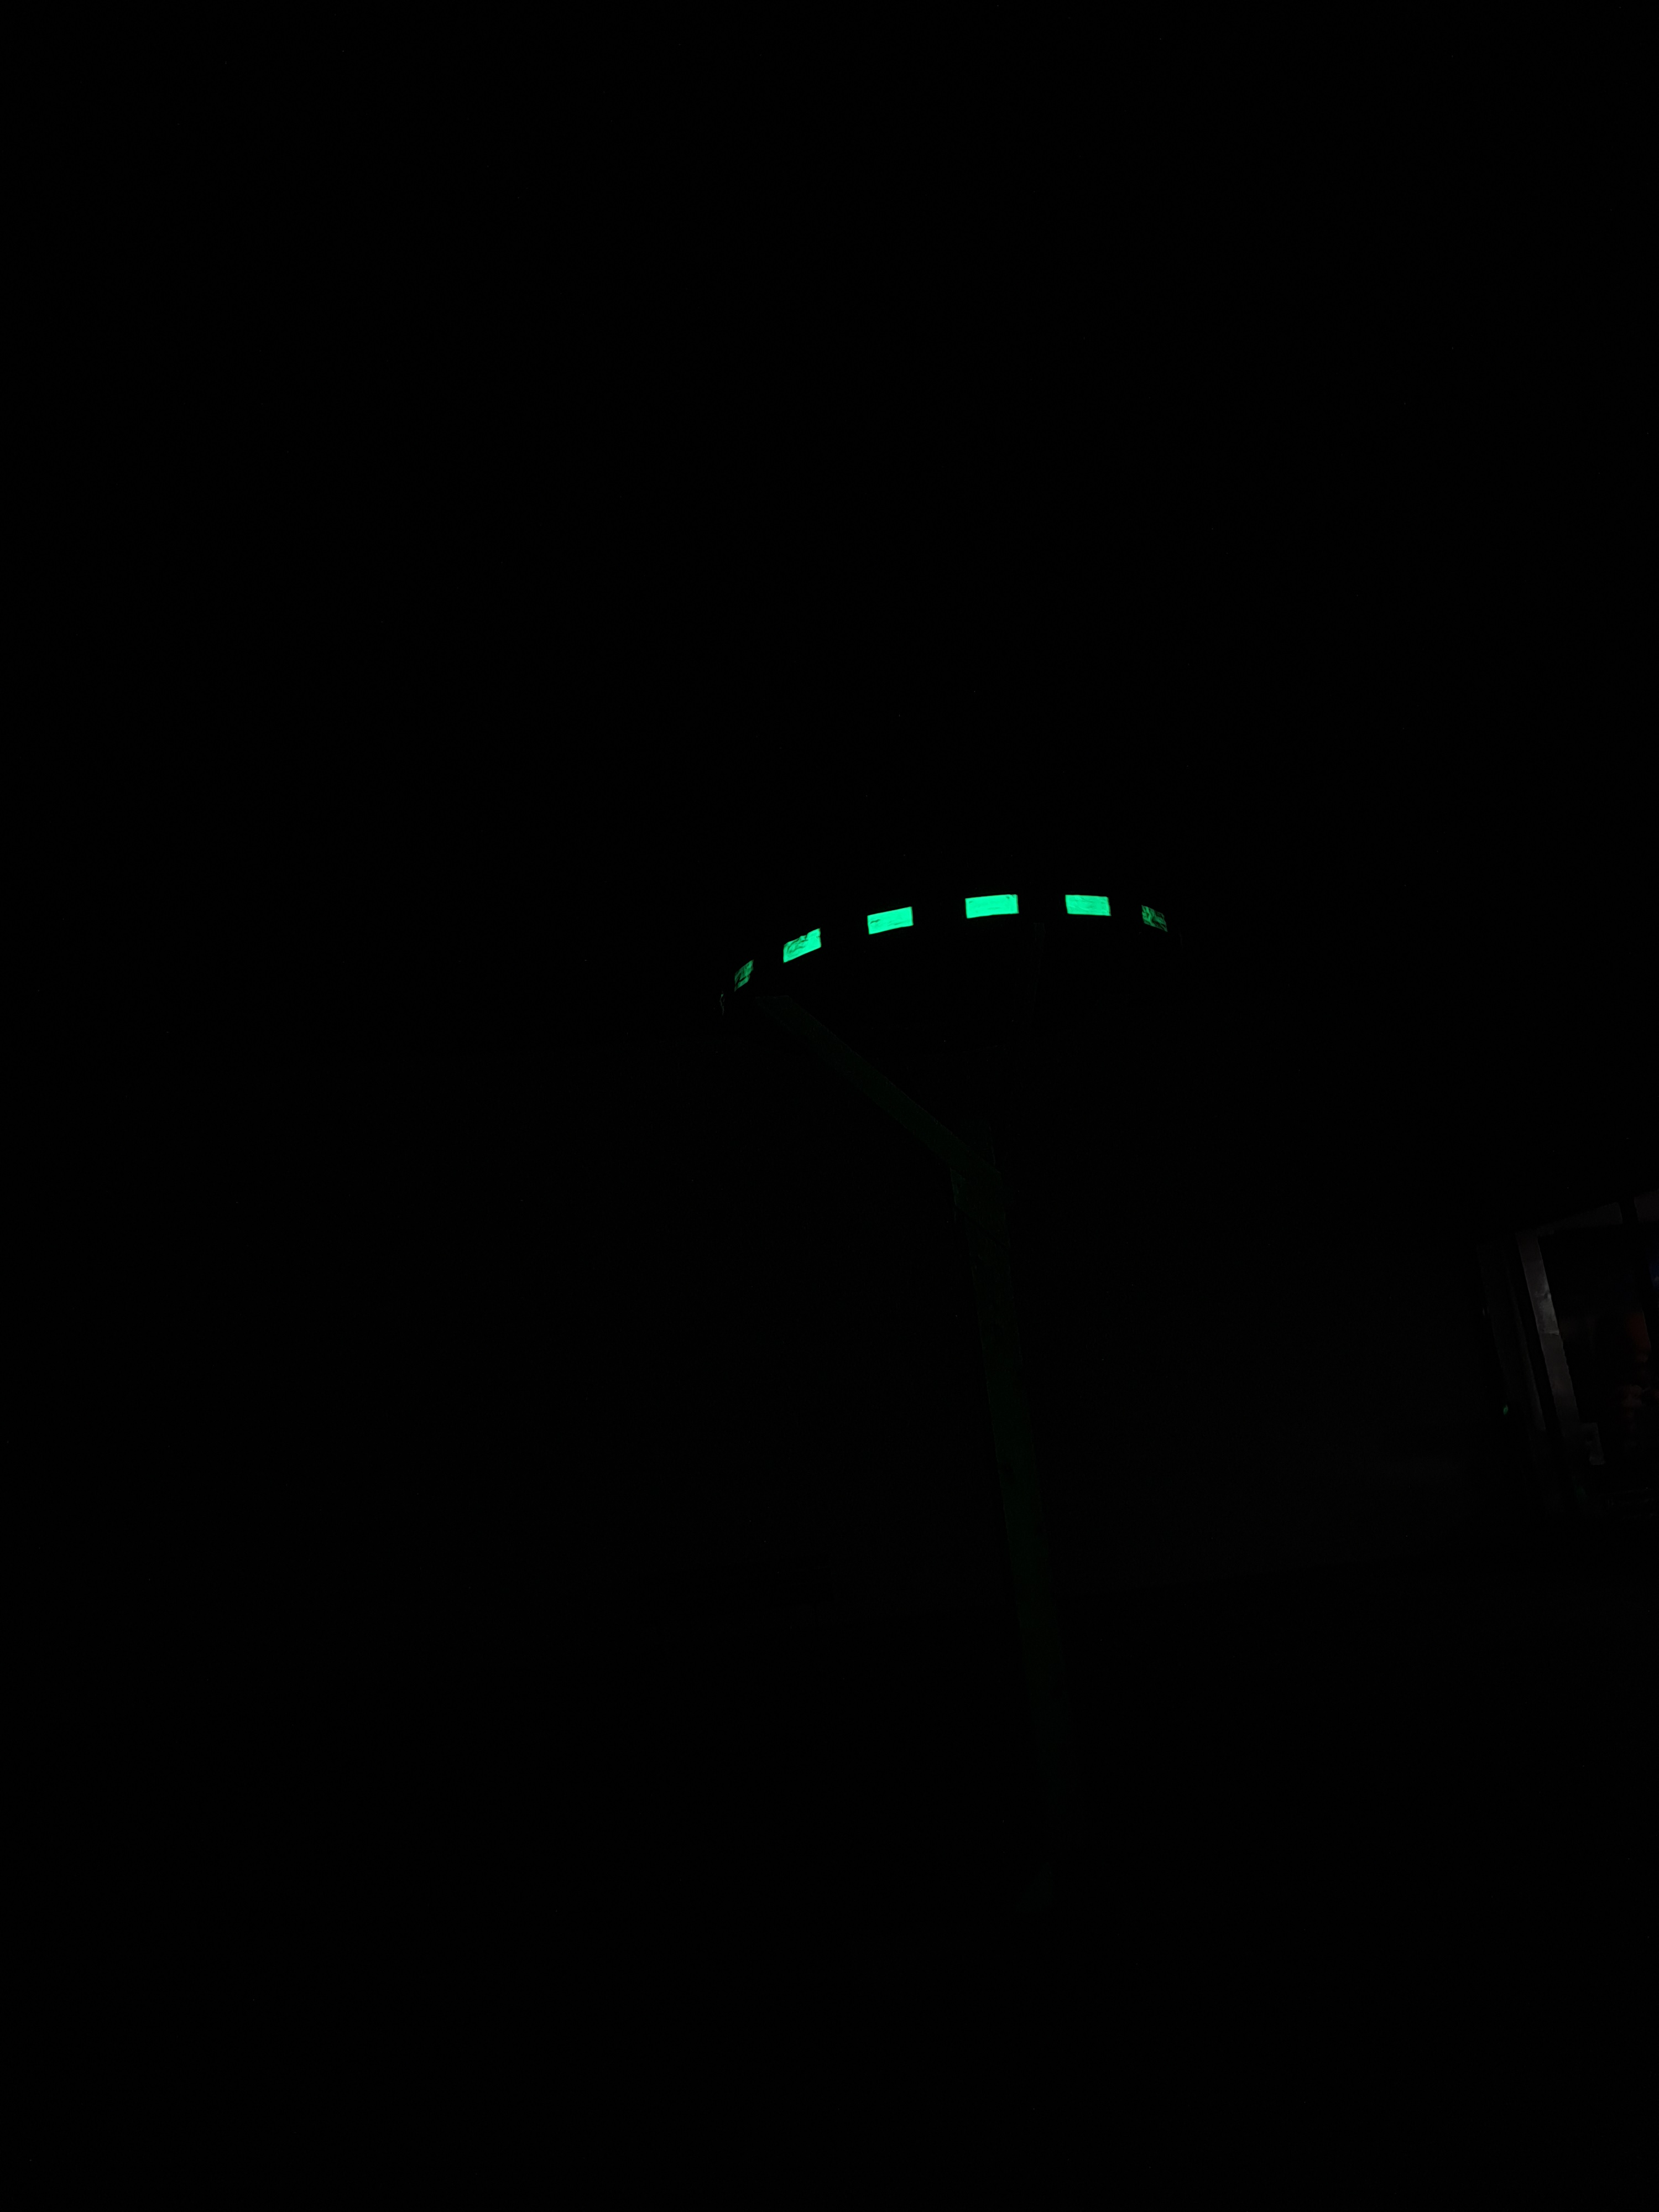hoop: (697, 864, 1187, 1026)
